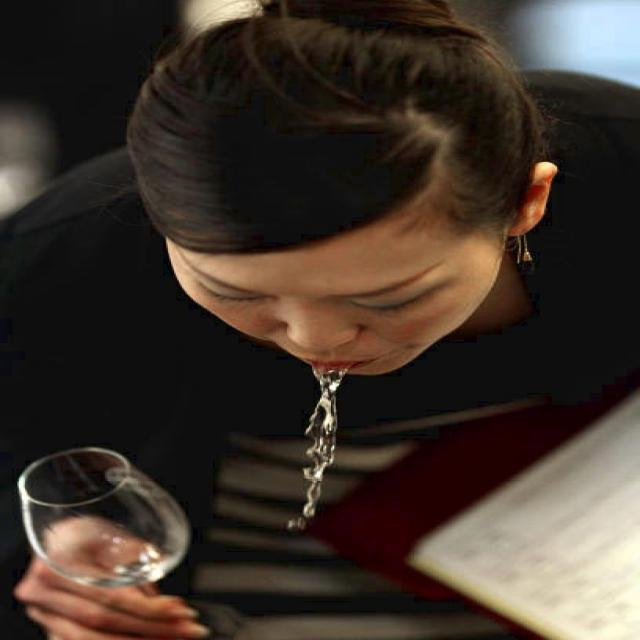Spitting: (114, 0, 560, 450)
